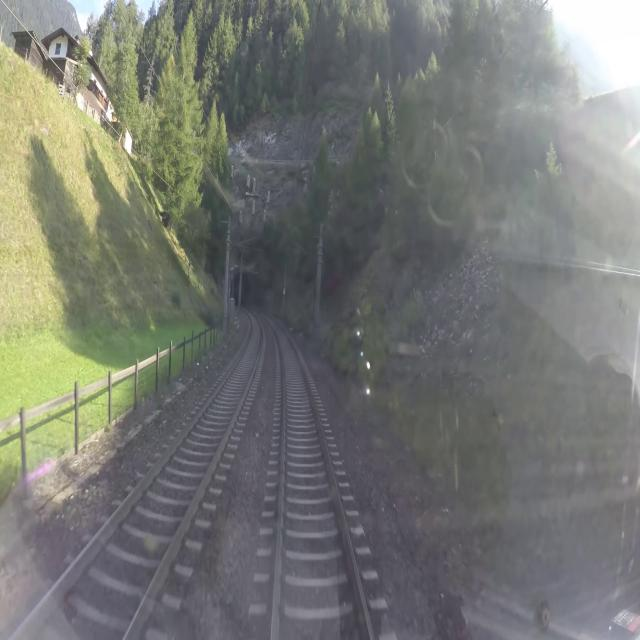rail-track: (17, 313, 260, 639), (271, 319, 369, 639)
